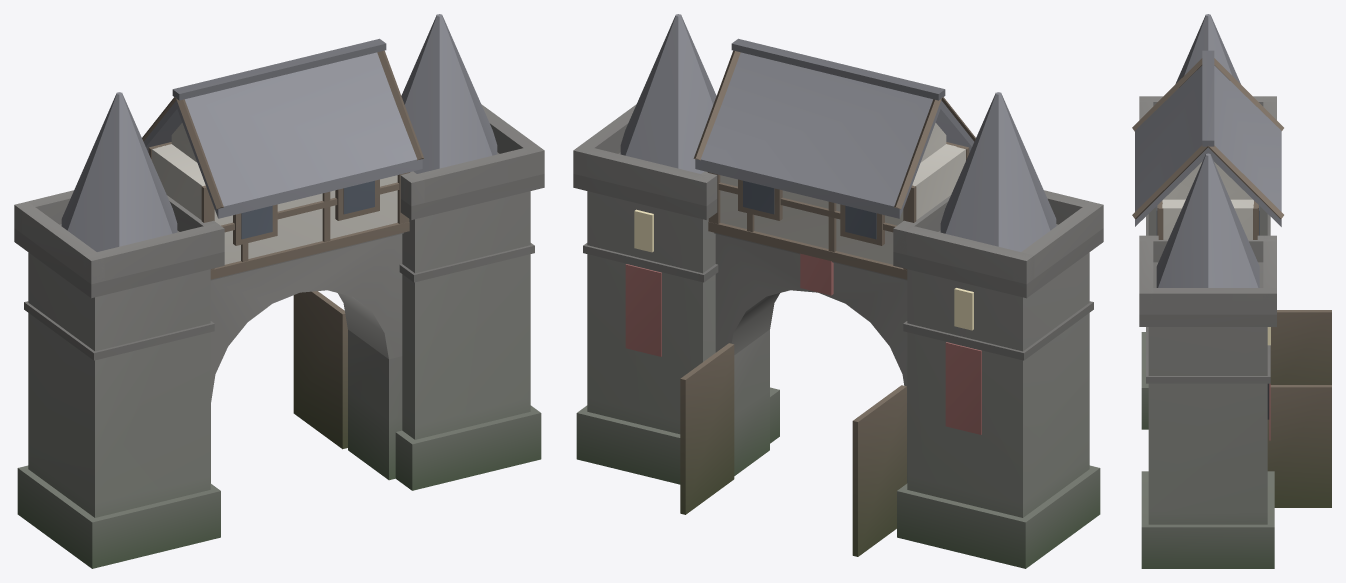
Rendered from town_gate.gltf.
3 views of the same model, side by side, from view 1: azimuth 30°, elevation 25°; view 2: azimuth 150°, elevation 25°; view 3: azimuth 270°, elevation 25° (orthographic). The views are drawn at different scales.
Visible parts, largest first — view 1: Body; view 2: Body; view 3: Body.
Boxes of the visible parts, x1=… form: Body: x1=14, y1=14, x2=544, y2=568; Body: x1=573, y1=14, x2=1103, y2=568; Body: x1=1132, y1=14, x2=1331, y2=568.
Bounding box in the file's own units: 10.2 × 9.3 × 4.36.
